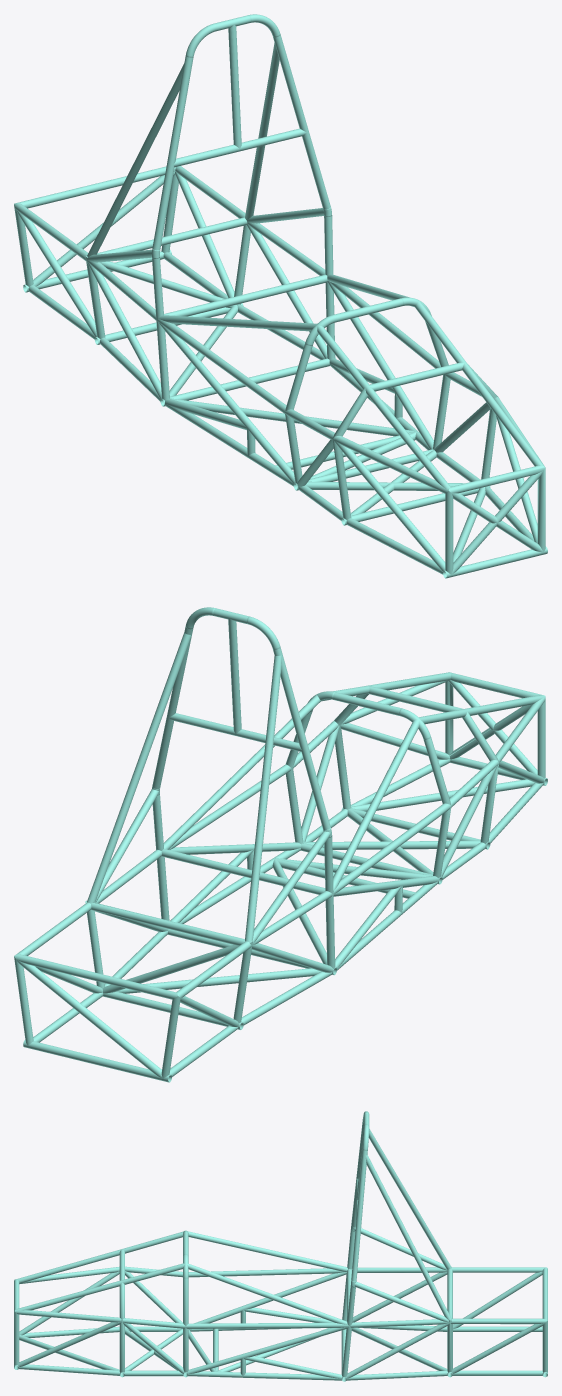
File: chassis.glb
The picture shows the model from 3 angles, top to bottom: view 1: azimuth 30°, elevation 25°; view 2: azimuth 150°, elevation 25°; view 3: azimuth 270°, elevation 25°; orthographic projection. The views are drawn at different scales.
Parts seen in each view (by area): view 1: FSAE_Chassis; view 2: FSAE_Chassis; view 3: FSAE_Chassis.
Part boxes in pixels (x1,y1,x2,y2): FSAE_Chassis: (14, 14, 547, 578); FSAE_Chassis: (14, 607, 547, 1082); FSAE_Chassis: (14, 1111, 547, 1381).
Size of the model in its own units: 0.5149 by 0.9705 by 2.
